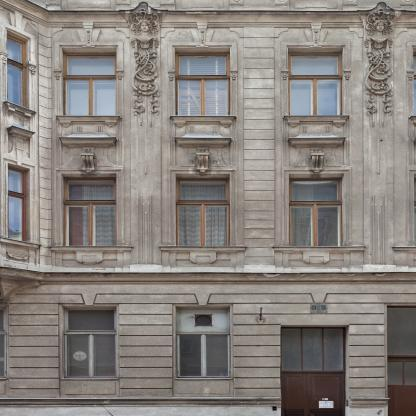Building Outline: (0, 0, 416, 416)
Cornice: (288, 133, 346, 173), (59, 134, 118, 173), (175, 134, 232, 173)
Deco: (365, 8, 396, 127), (130, 8, 160, 127)
Door: (281, 325, 350, 416), (387, 355, 415, 416)
Facade: (38, 0, 416, 416)
Floor: (0, 0, 415, 144), (1, 153, 416, 272)
Floor Slab: (1, 272, 416, 284), (1, 145, 416, 153)
Ground Floor: (1, 284, 416, 415)
Molding: (47, 10, 416, 27), (40, 272, 416, 284)
Pillar: (244, 27, 275, 265)
Sill: (272, 246, 366, 265), (49, 246, 134, 265), (159, 246, 247, 264), (283, 115, 350, 128), (170, 115, 236, 128), (56, 115, 121, 128)
Window: (61, 305, 117, 378), (175, 306, 231, 378), (288, 174, 343, 246), (62, 174, 117, 246), (175, 174, 230, 246), (288, 48, 343, 116), (62, 48, 117, 116), (175, 48, 230, 116), (387, 305, 416, 356)
